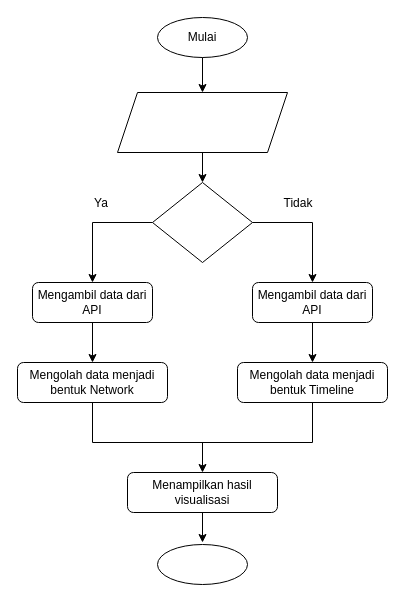
This 405x602 diagram has some shape labels left out. The centre of each missing label's shape, as x and y in pixels:
Menunggu Input User: [202,122]
Network ?: [202,222]
Selesai: [202,564]
